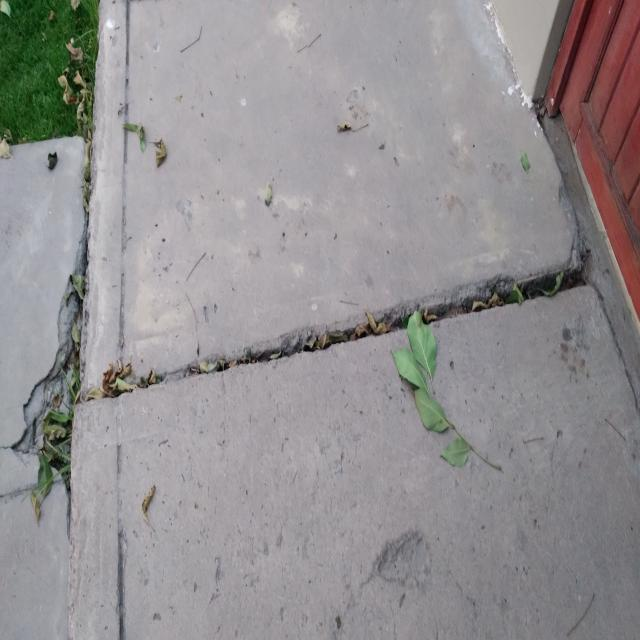hole: (334, 250, 607, 374)
